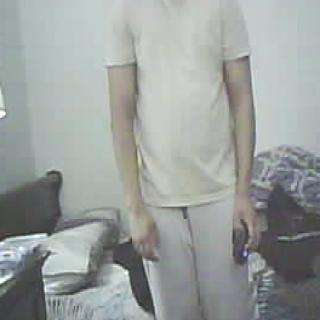White Sweatpants: (143, 195, 254, 320)
Yellow T-Shirt: (103, 0, 252, 210)
